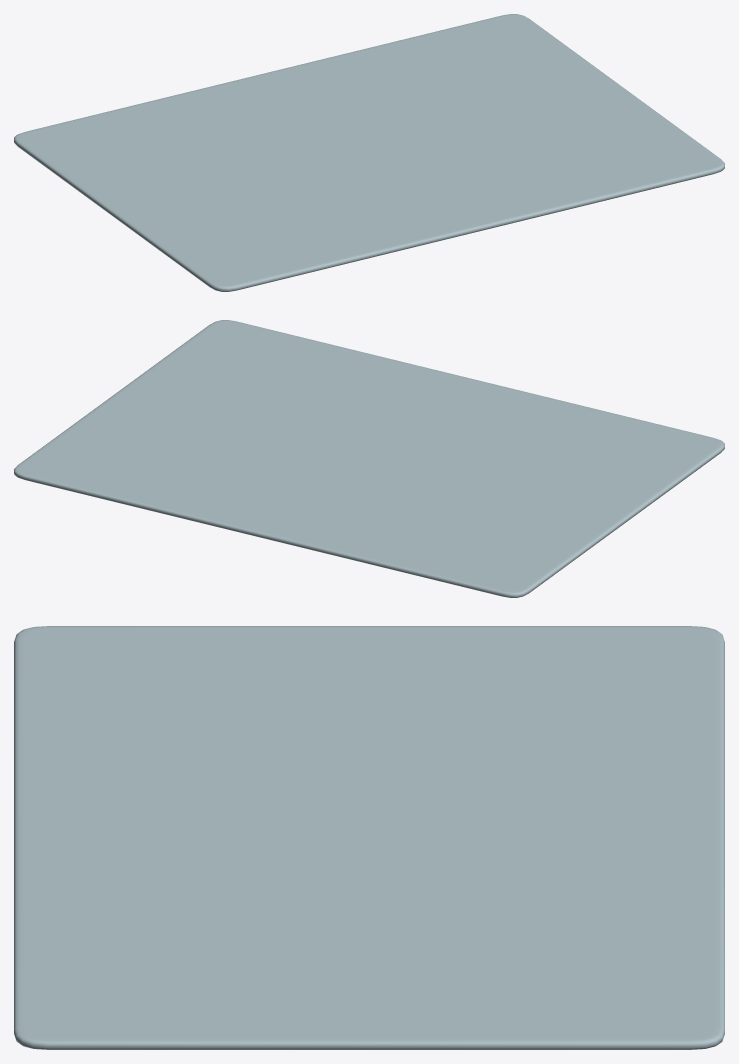
The model's file is Carpet_2.FBX.
The picture shows the model from 3 angles, top to bottom: view 1: azimuth 30°, elevation 25°; view 2: azimuth 150°, elevation 25°; view 3: azimuth 270°, elevation 25°; orthographic projection. The views are drawn at different scales.
Visible parts, largest first — view 1: Carpet_2; view 2: Carpet_2; view 3: Carpet_2.
Boxes of the visible parts, x1=… form: Carpet_2: x1=14, y1=14, x2=724, y2=291; Carpet_2: x1=14, y1=320, x2=724, y2=597; Carpet_2: x1=14, y1=626, x2=724, y2=1049.
Size of the model in its own units: 68.59 by 0.6352 by 49.27.
